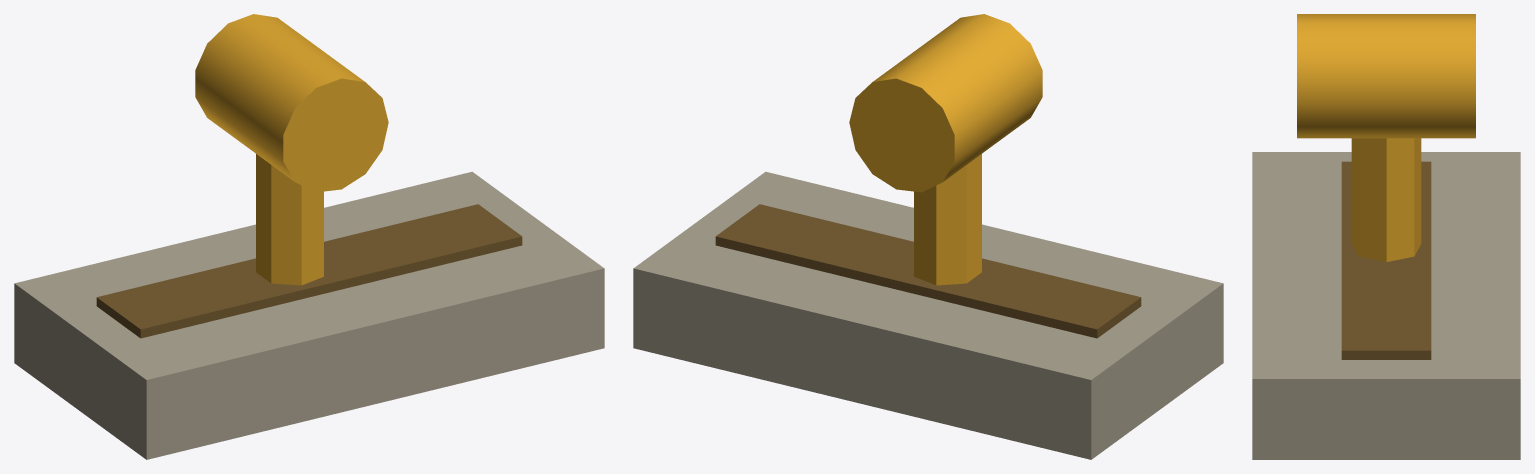
File: palanca.fbx
3 renders of one model, left to right at view 1: azimuth 30°, elevation 25°; view 2: azimuth 150°, elevation 25°; view 3: azimuth 270°, elevation 25°, orthographic.
Visible parts, largest first — view 1: pCube1, pCylinder2, pCube2, pCylinder1; view 2: pCube1, pCylinder2, pCube2, pCylinder1; view 3: pCube1, pCylinder2, pCube2, pCylinder1.
Boxes of the visible parts, x1=… form: pCube1: x1=14, y1=171, x2=604, y2=459; pCylinder2: x1=195, y1=14, x2=388, y2=192; pCube2: x1=96, y1=204, x2=522, y2=338; pCylinder1: x1=256, y1=154, x2=323, y2=285; pCube1: x1=633, y1=171, x2=1223, y2=459; pCylinder2: x1=849, y1=14, x2=1042, y2=192; pCube2: x1=715, y1=204, x2=1141, y2=338; pCylinder1: x1=914, y1=154, x2=981, y2=285; pCube1: x1=1252, y1=152, x2=1520, y2=459; pCylinder2: x1=1297, y1=14, x2=1475, y2=138; pCube2: x1=1341, y1=161, x2=1431, y2=359; pCylinder1: x1=1351, y1=138, x2=1421, y2=261.
Size of the model in its own units: 6 by 3.91 by 3.
